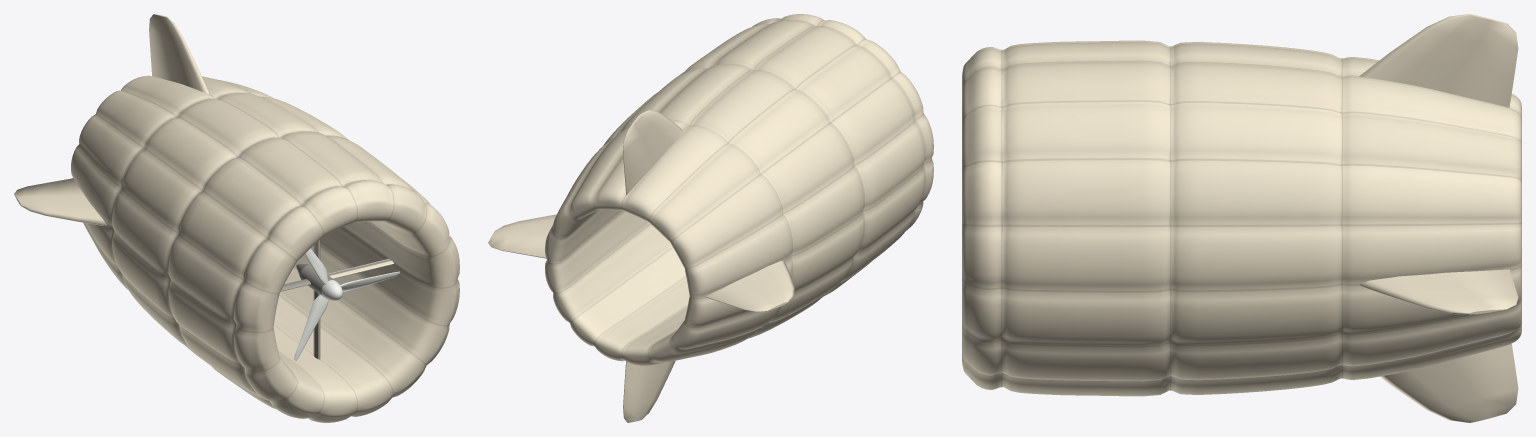
File: blimp.meshopt.glb
The picture shows the model from 3 angles, left to right: view 1: azimuth 30°, elevation 25°; view 2: azimuth 150°, elevation 25°; view 3: azimuth 270°, elevation 25°; orthographic projection. The views are drawn at different scales.
Visible parts, largest first — view 1: hull, rotor; view 2: hull; view 3: hull.
Part boxes in pixels (left/top/right/bottom): hull: left=14, top=14, right=459, bottom=422; rotor: left=294, top=248, right=399, bottom=360; hull: left=488, top=14, right=933, bottom=422; hull: left=962, top=14, right=1521, bottom=422.
Size of the model in its own units: 63.21 by 63.21 by 78.43.
Materials: 3 (1 with a texture image).
